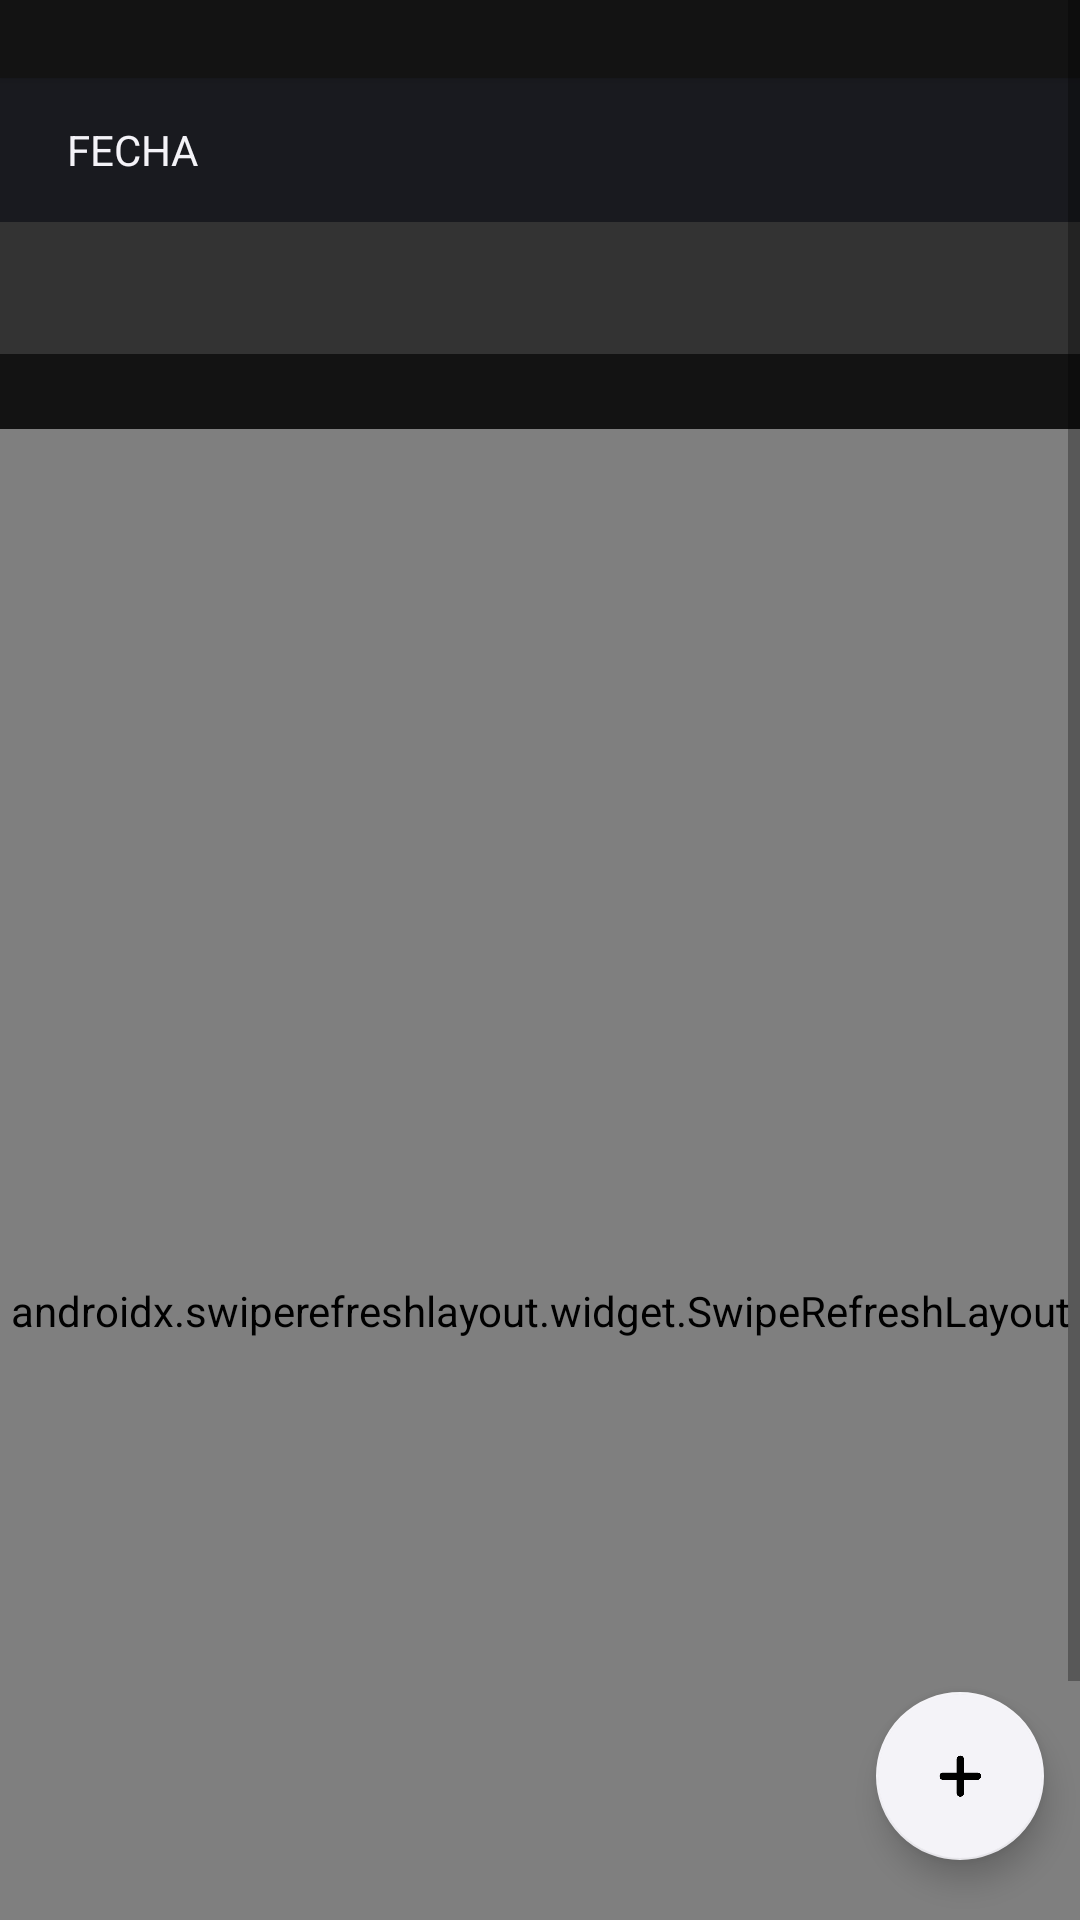

Icons on this 1080x1920 Android screen, each with its box as bbox=[x1, y1, x2, y2]:
cruz: bbox=[876, 1692, 1044, 1860]
